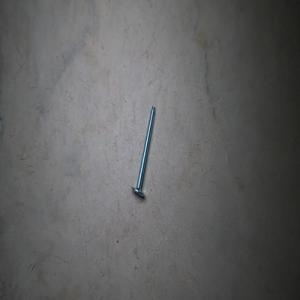Bolt: (130, 105, 156, 197)
